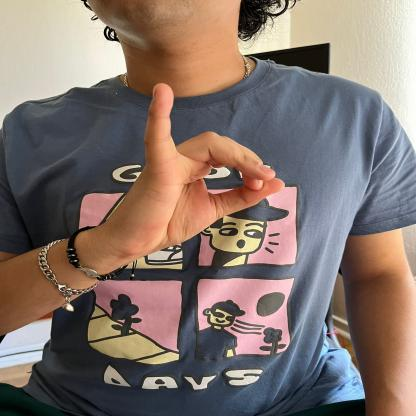D: (106, 79, 285, 248)
